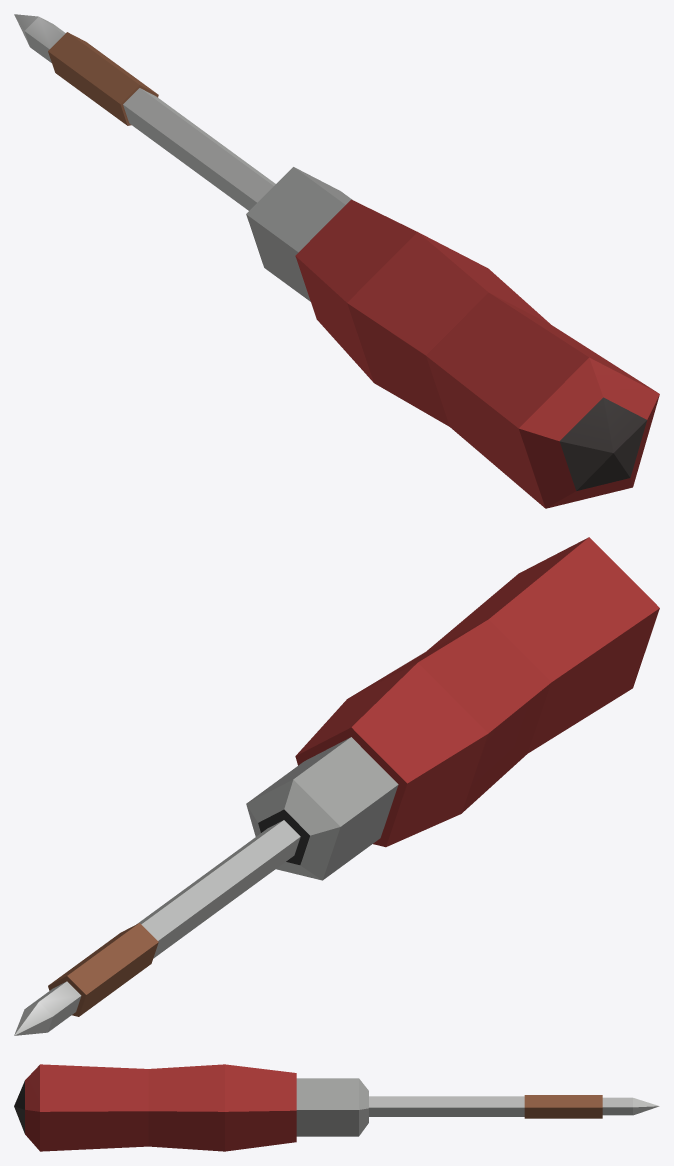
Rendered from Screwdriver.fbx.
3 views of the same model, one above another, from view 1: azimuth 30°, elevation 25°; view 2: azimuth 150°, elevation 25°; view 3: azimuth 270°, elevation 25° (orthographic). The views are drawn at different scales.
Visible parts, largest first — view 1: Screwdriver; view 2: Screwdriver; view 3: Screwdriver.
Part boxes in pixels (left/top/right/bottom): Screwdriver: left=14, top=14, right=659, bottom=508; Screwdriver: left=14, top=537, right=659, bottom=1035; Screwdriver: left=14, top=1064, right=659, bottom=1151.
Bounding box in the file's own units: 32.54 × 30.95 × 239.
